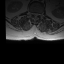CCS_stenosis: (34, 11, 36, 18)
LFS_normal: (38, 12, 40, 16)
LLS_normal: (36, 11, 38, 17)
RFS_stenosis: (31, 11, 33, 16)
RLS_normal: (33, 11, 34, 17)
